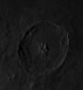crater: (10, 13, 73, 80)
